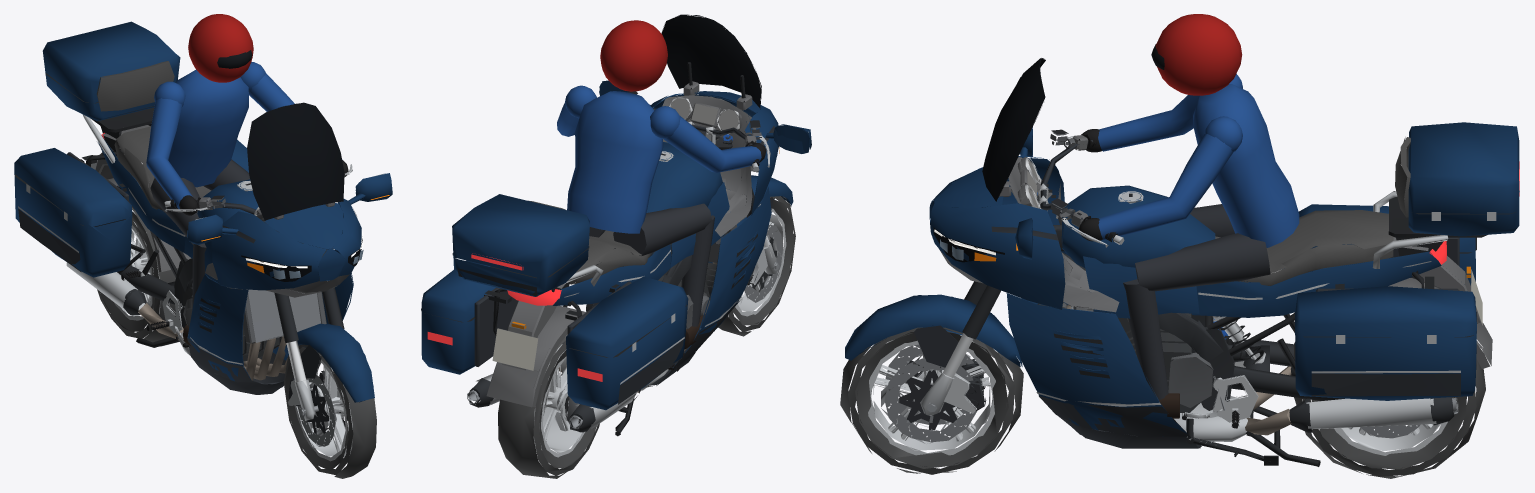
File: vb_touring.glb
The picture shows the model from 3 angles, left to right: view 1: azimuth 30°, elevation 25°; view 2: azimuth 150°, elevation 25°; view 3: azimuth 270°, elevation 25°; orthographic projection. The views are drawn at different scales.
Visible parts, largest first — view 1: body, rider_torso, fork, wheel_front, rider_head, wheel_rear, rider_legs; view 2: body, rider_torso, wheel_rear, rider_legs, wheel_front, rider_head, fork; view 3: body, rider_torso, wheel_front, fork, rider_legs, wheel_rear, rider_head.
Part boxes in pixels (x1,y1,x2,y2): body: [14, 21, 392, 394]; rider_torso: [146, 62, 348, 215]; fork: [164, 164, 374, 420]; wheel_front: [284, 344, 376, 478]; rider_head: [188, 14, 253, 82]; wheel_rear: [97, 207, 180, 342]; rider_legs: [150, 159, 249, 345]; body: [421, 14, 811, 436]; rider_torso: [557, 85, 766, 233]; wheel_rear: [498, 337, 599, 478]; rider_legs: [589, 203, 714, 348]; wheel_front: [718, 196, 795, 336]; rider_head: [600, 20, 667, 91]; fork: [628, 91, 793, 285]; body: [929, 58, 1519, 466]; rider_torso: [1078, 74, 1299, 247]; wheel_front: [840, 327, 1023, 474]; fork: [845, 129, 1124, 415]; rider_legs: [1123, 204, 1270, 418]; wheel_rear: [1294, 358, 1485, 478]; rider_head: [1151, 14, 1242, 95].
Size of the model in its own units: 0.96 by 1.69 by 2.28.
